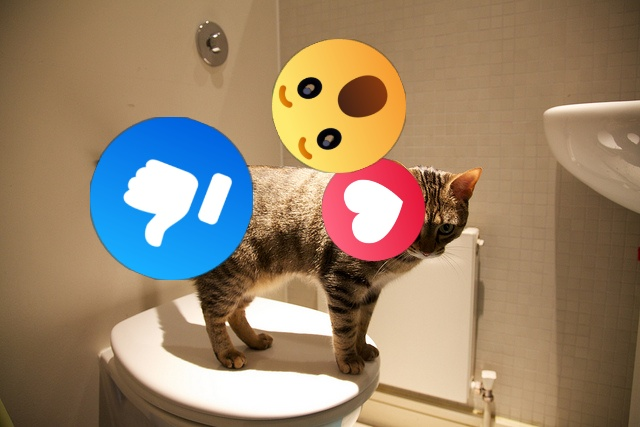like: (90, 117, 253, 280)
love: (322, 158, 425, 261)
wow: (272, 39, 406, 173)
